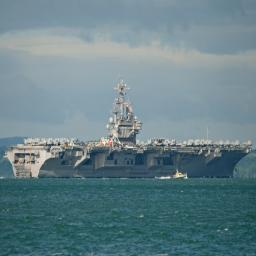Portanaves: (3, 72, 254, 181)
